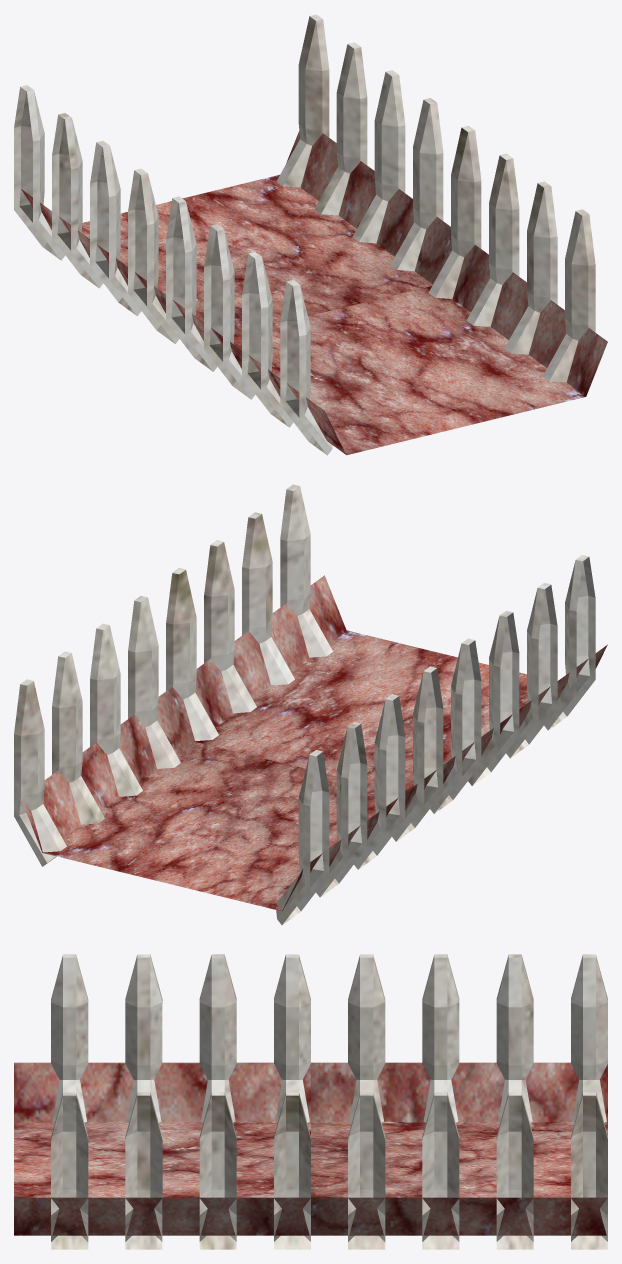
File: ribs.fbx
The picture shows the model from 3 angles, top to bottom: view 1: azimuth 30°, elevation 25°; view 2: azimuth 150°, elevation 25°; view 3: azimuth 270°, elevation 25°; orthographic projection. The views are drawn at different scales.
Parts seen in each view (by area): view 1: Plane.001, Plane; view 2: Plane.001, Plane; view 3: Plane.001, Plane.
Boxes of the visible parts, x1,y1,x2,y2 form: Plane.001: (14,14,595,455); Plane: (21,131,607,455); Plane.001: (14,484,595,925); Plane: (21,575,607,911); Plane.001: (51,954,607,1249); Plane: (14,1062,607,1235).
Bounding box in the file's own units: 312 × 172 × 554.
